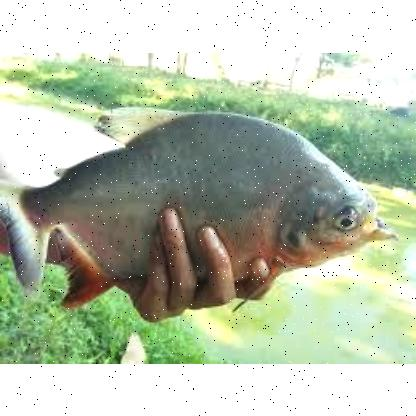ikan-pacu: (6, 100, 390, 302)
